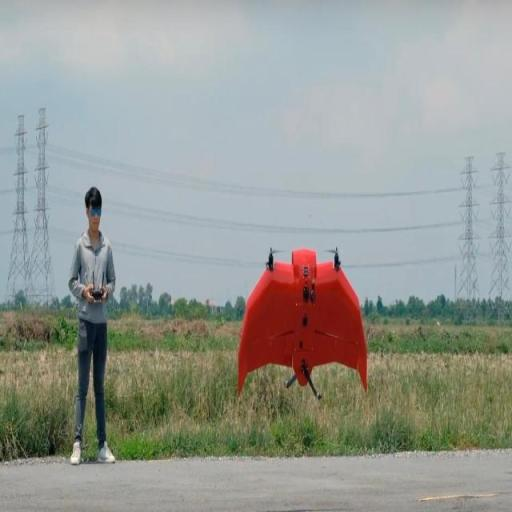uav: (234, 248, 372, 396)
